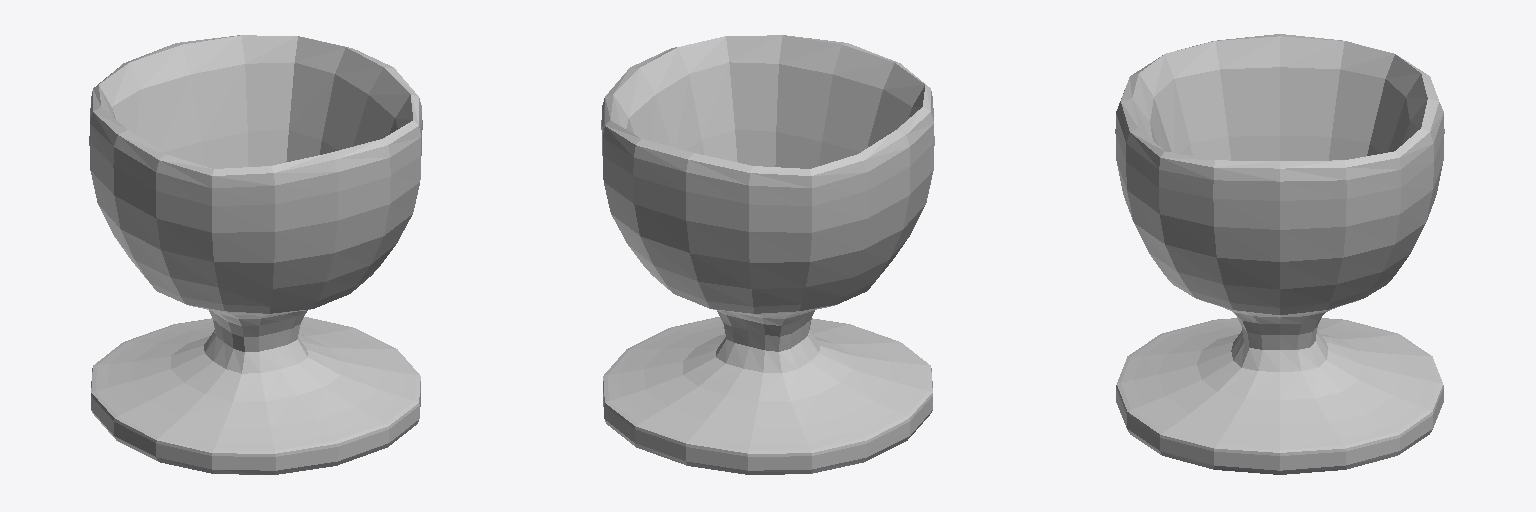
Rendered from cupsquare.obj.
The picture shows the model from 3 angles: view 1: azimuth 30°, elevation 25°; view 2: azimuth 150°, elevation 25°; view 3: azimuth 270°, elevation 25°; orthographic projection.
Parts seen in each view (by area): view 1: Cube; view 2: Cube; view 3: Cube.
Boxes of the visible parts, box(x1,y1,x2,y2) form: Cube: box(89, 35, 422, 474); Cube: box(601, 35, 934, 474); Cube: box(1115, 34, 1444, 474).
Size of the model in its own units: 1.85 by 1.95 by 1.85.